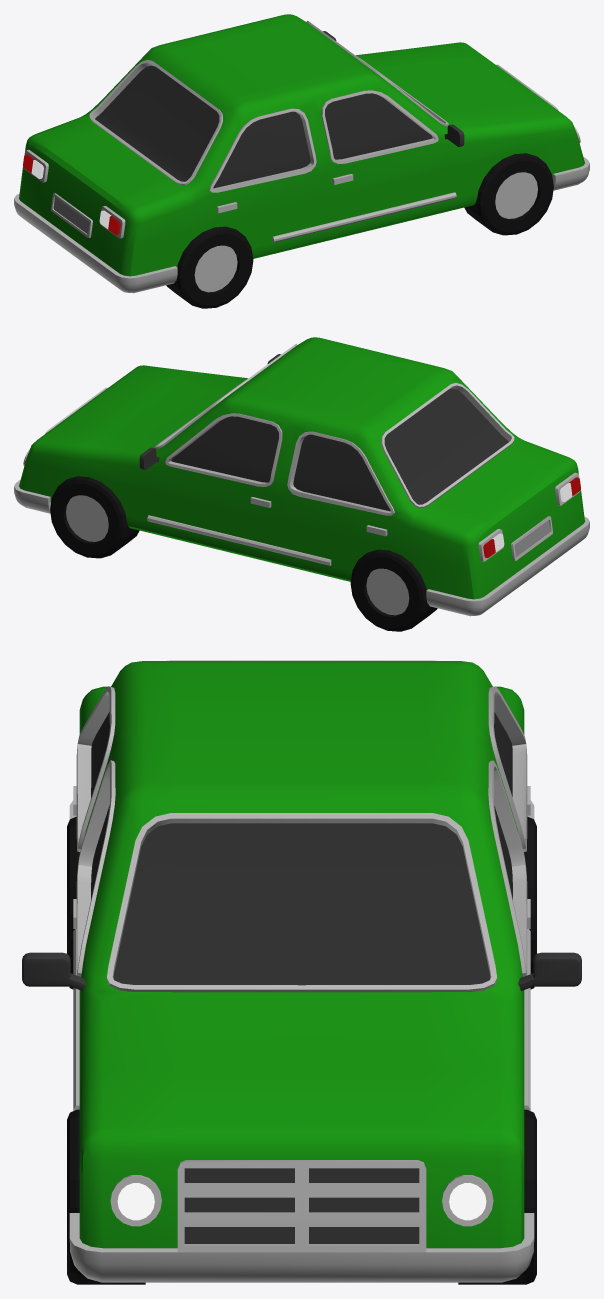
The model's file is GreenCar.glb.
3 views of the same model, one above another, from view 1: azimuth 30°, elevation 25°; view 2: azimuth 150°, elevation 25°; view 3: azimuth 270°, elevation 25° (orthographic). The views are drawn at different scales.
Visible parts, largest first — view 1: Car; view 2: Car; view 3: Car.
Boxes of the visible parts, x1,y1,x2,y2 form: Car: (14,14,589,308); Car: (14,337,589,631); Car: (22,660,581,1284).
Size of the model in its own units: 5.53 by 2.03 by 2.84.
